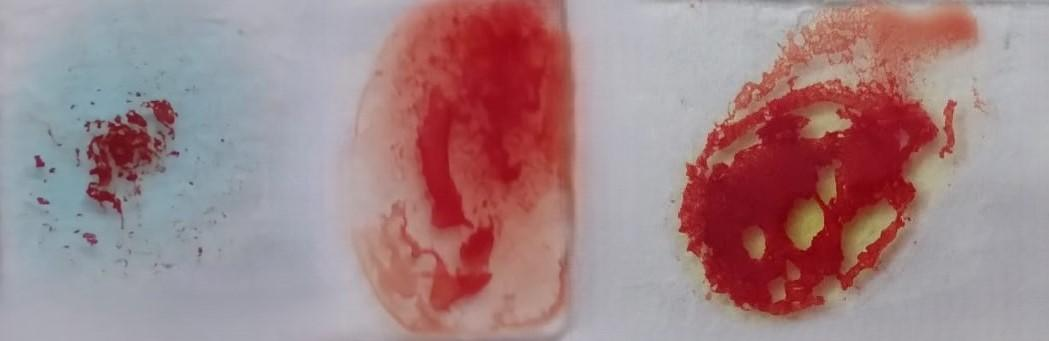A: (9, 5, 234, 300)
B: (684, 13, 975, 314)
D: (360, 4, 580, 334)
